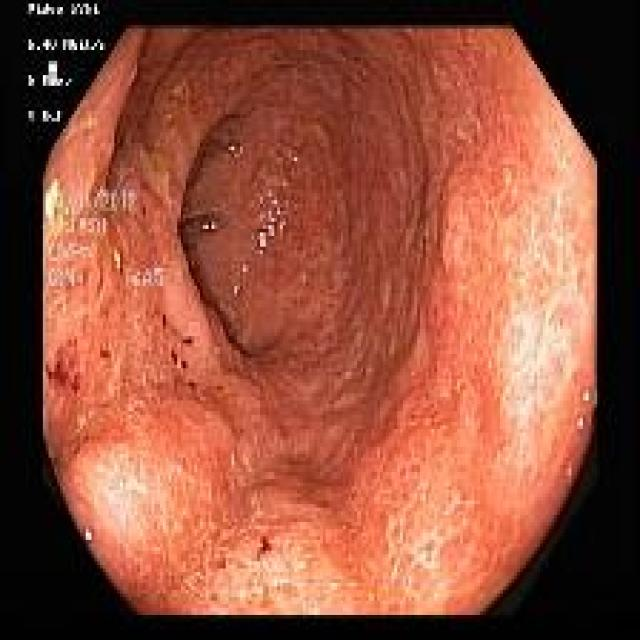ulcerative-colitis: (45, 28, 596, 614)
